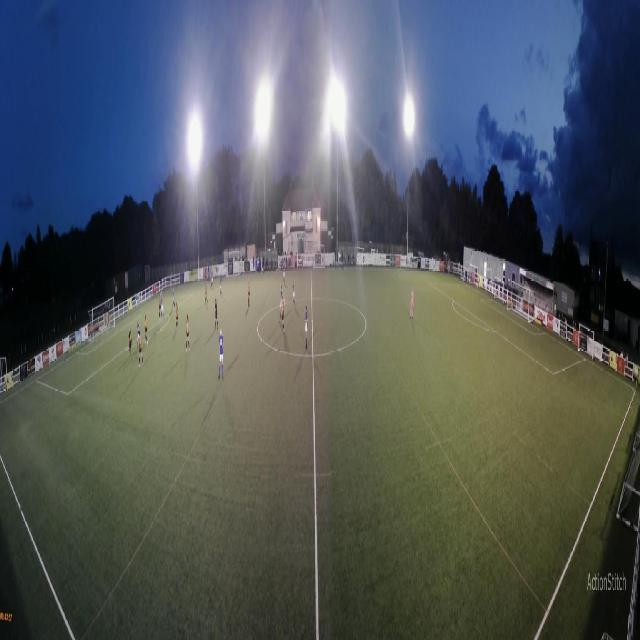ball: (160, 290, 162, 297)
player: (218, 328, 225, 380), (138, 331, 144, 369), (304, 305, 308, 349), (409, 287, 414, 321), (186, 315, 190, 354), (281, 296, 285, 334), (279, 285, 283, 323), (144, 315, 148, 346), (214, 299, 218, 330), (128, 328, 132, 358), (136, 320, 140, 350), (175, 302, 179, 331), (292, 279, 296, 308), (161, 295, 165, 322), (158, 294, 162, 319), (172, 287, 176, 311), (204, 281, 208, 305), (248, 277, 251, 307), (220, 275, 223, 297), (106, 313, 109, 334), (211, 270, 214, 290), (283, 263, 285, 285)
